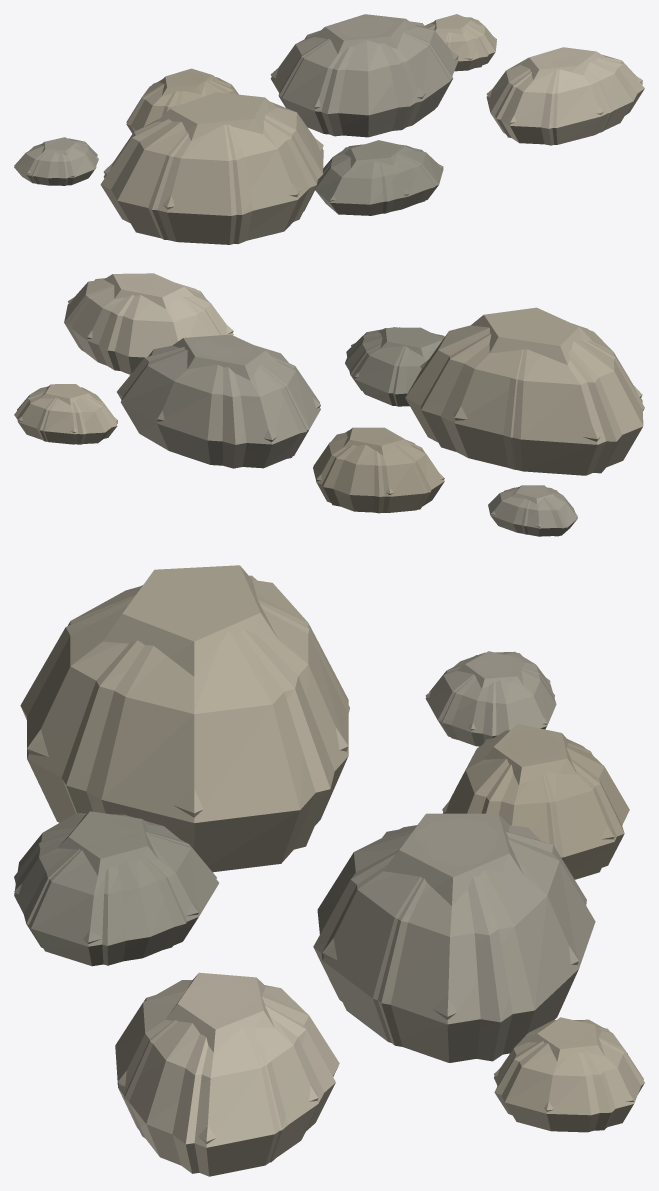
Rendered from bank_stones.glb.
The picture shows the model from 3 angles, top to bottom: view 1: azimuth 30°, elevation 25°; view 2: azimuth 150°, elevation 25°; view 3: azimuth 270°, elevation 25°; orthographic projection. The views are drawn at different scales.
Visible parts, largest first — view 1: bank_stones_detail, bank_stones_medium, bank_stones_far; view 2: bank_stones_detail, bank_stones_medium, bank_stones_far; view 3: bank_stones_detail, bank_stones_medium, bank_stones_far.
Part boxes in pixels (x1=…): bank_stones_detail: x1=14, y1=16, x2=642, y2=244; bank_stones_medium: x1=14, y1=17, x2=644, y2=243; bank_stones_far: x1=26, y1=14, x2=642, y2=209; bank_stones_detail: x1=17, y1=275, x2=643, y2=536; bank_stones_medium: x1=14, y1=276, x2=644, y2=536; bank_stones_far: x1=18, y1=273, x2=642, y2=527; bank_stones_detail: x1=14, y1=572, x2=643, y2=1176; bank_stones_medium: x1=14, y1=573, x2=644, y2=1173; bank_stones_far: x1=14, y1=565, x2=634, y2=1144.
Bounding box in the file's own units: 1.27 × 0.23 × 0.6717.
